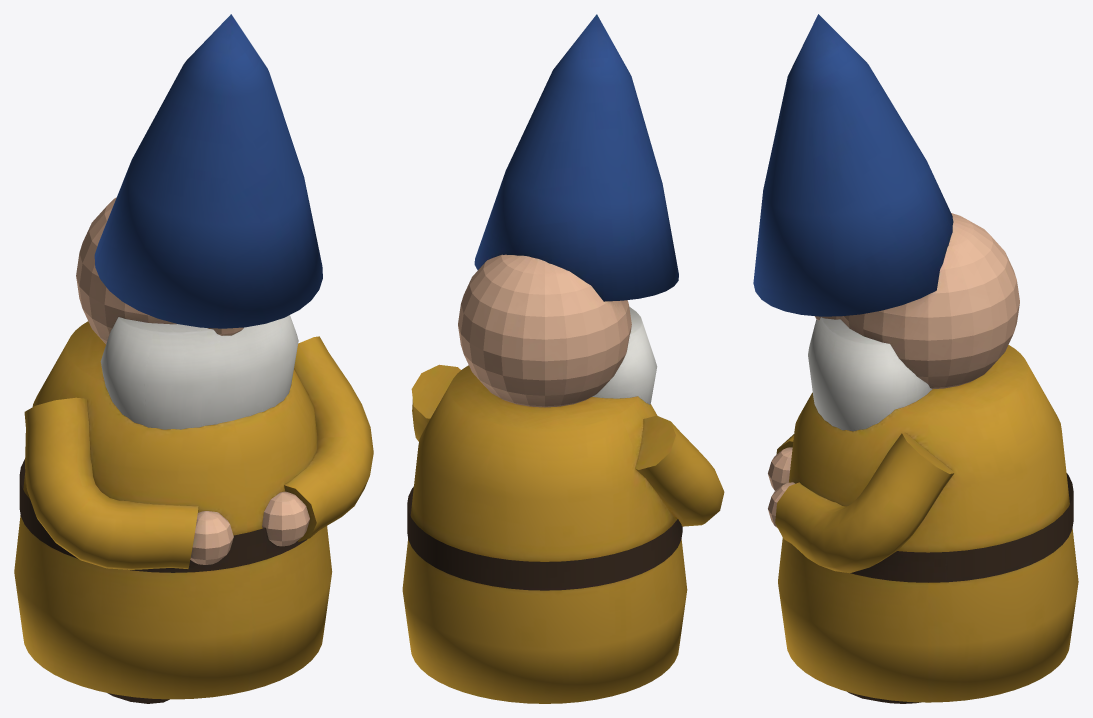
The model's file is large-blue.glb.
The picture shows the model from 3 angles, left to right: view 1: azimuth 30°, elevation 25°; view 2: azimuth 150°, elevation 25°; view 3: azimuth 270°, elevation 25°; orthographic projection. The views are drawn at different scales.
Parts seen in each view (by area): view 1: gnome_coat, gnome_hat, gnome_beard, gnome_skin, gnome_boots; view 2: gnome_coat, gnome_hat, gnome_skin, gnome_boots, gnome_beard; view 3: gnome_coat, gnome_hat, gnome_skin, gnome_beard, gnome_boots.
Boxes of the visible parts, <box> form: gnome_coat: <box>14,321,373,699</box>; gnome_hat: <box>94,14,322,328</box>; gnome_beard: <box>100,315,298,429</box>; gnome_skin: <box>76,197,309,564</box>; gnome_boots: <box>19,459,307,703</box>; gnome_coat: <box>402,364,724,703</box>; gnome_hat: <box>474,14,678,301</box>; gnome_skin: <box>458,254,631,407</box>; gnome_boots: <box>407,486,682,590</box>; gnome_beard: <box>592,307,657,404</box>; gnome_coat: <box>775,345,1078,702</box>; gnome_hat: <box>753,14,953,316</box>; gnome_skin: <box>768,213,1019,528</box>; gnome_beard: <box>808,317,932,431</box>; gnome_boots: <box>847,473,1073,703</box>.
Bounding box in the file's own units: 0.3446 × 0.6969 × 0.3114.
Materials: 5 (5 with a texture image).
